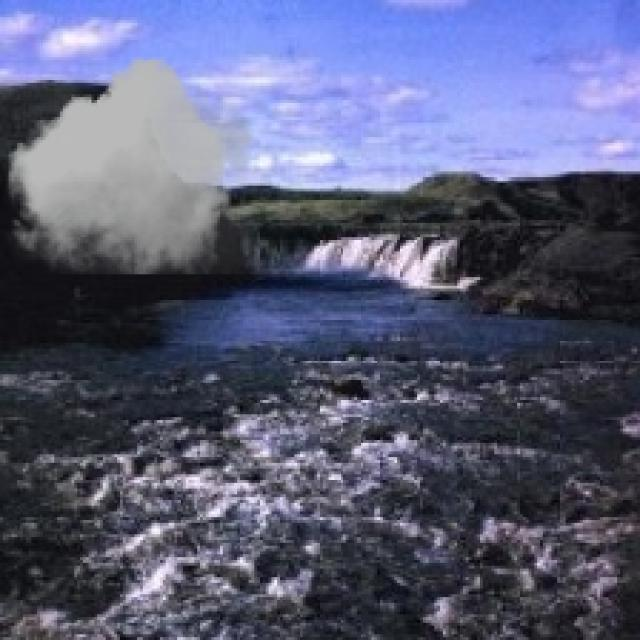smoke: (3, 57, 260, 274)
